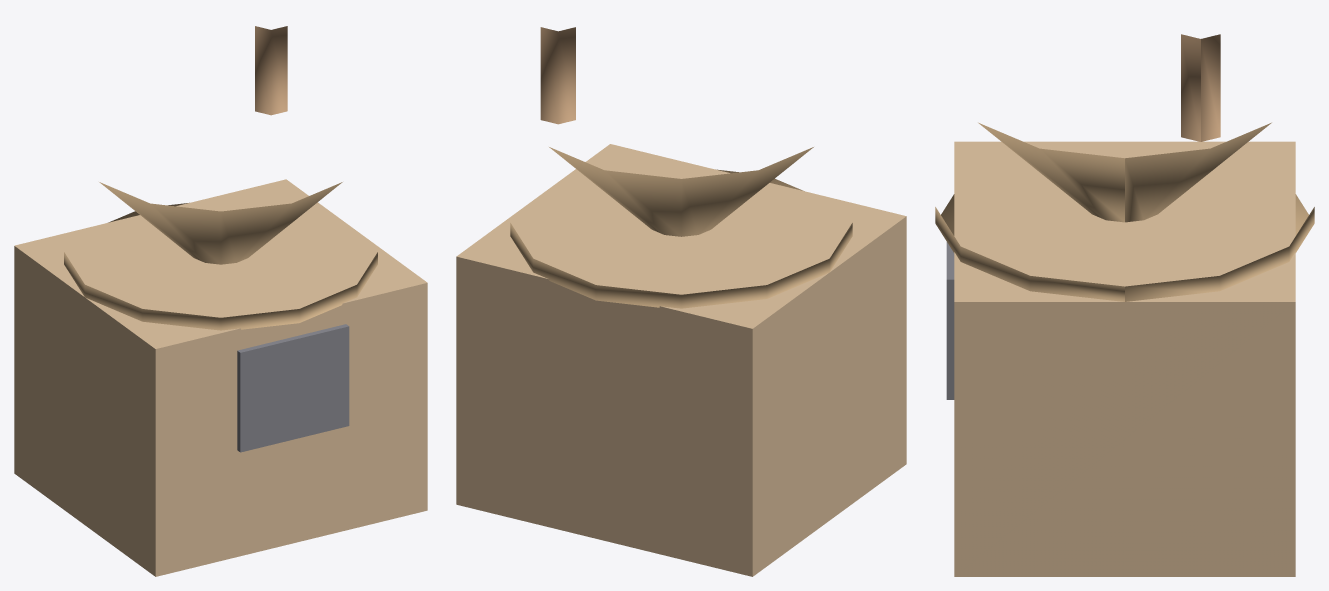
File: pizza_oven.glb
The picture shows the model from 3 angles, left to right: view 1: azimuth 30°, elevation 25°; view 2: azimuth 150°, elevation 25°; view 3: azimuth 270°, elevation 25°; orthographic projection. The views are drawn at different scales.
Parts seen in each view (by area): view 1: body, opening, dome, dome_base, chimney; view 2: body, dome, dome_base, chimney; view 3: body, dome, dome_base, chimney, opening.
Part boxes in pixels (left/top/right/bottom): body: left=14, top=179, right=427, bottom=576; opening: left=237, top=324, right=349, bottom=452; dome: left=99, top=182, right=342, bottom=264; dome_base: left=64, top=202, right=377, bottom=330; chimney: left=255, top=26, right=287, bottom=115; body: left=456, top=144, right=906, bottom=576; dome: left=549, top=147, right=813, bottom=236; dome_base: left=510, top=169, right=852, bottom=308; chimney: left=540, top=27, right=575, bottom=124; body: left=954, top=141, right=1295, bottom=576; dome: left=978, top=122, right=1271, bottom=222; dome_base: left=935, top=194, right=1314, bottom=301; chimney: left=1181, top=34, right=1220, bottom=141; opening: left=946, top=242, right=954, bottom=399.
Size of the model in its own units: 1 by 1.5 by 1.
